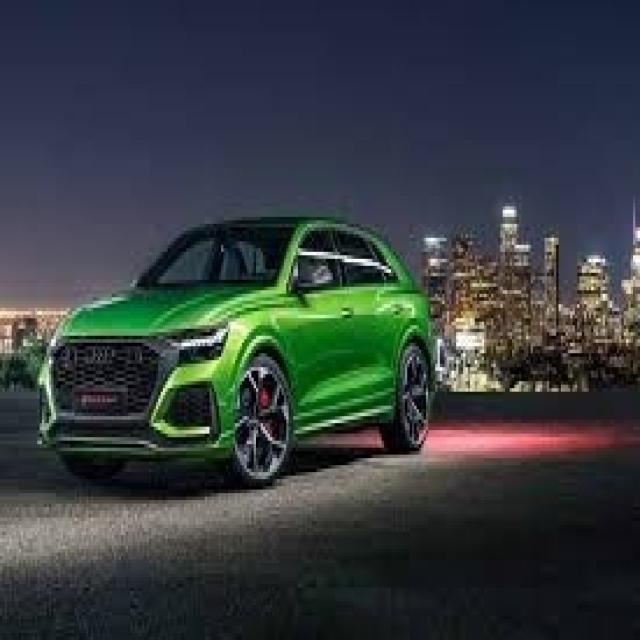green: (37, 210, 438, 487)
